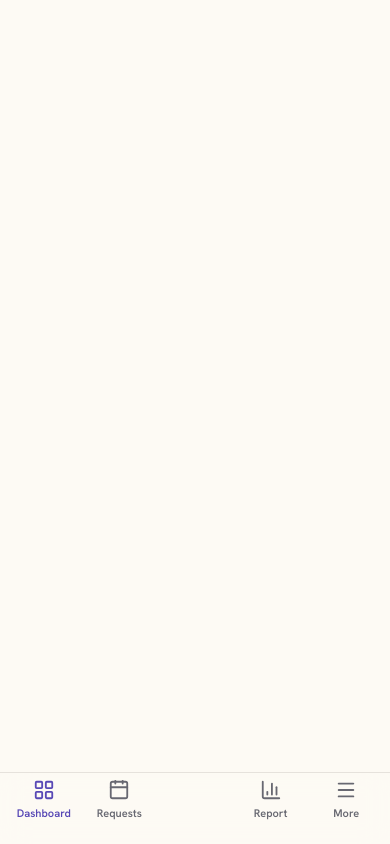
BottomBar › adds the Organization section and Support behind More for an admin
Click the button "More".
click(346, 808)  # box [308,773,384,843]
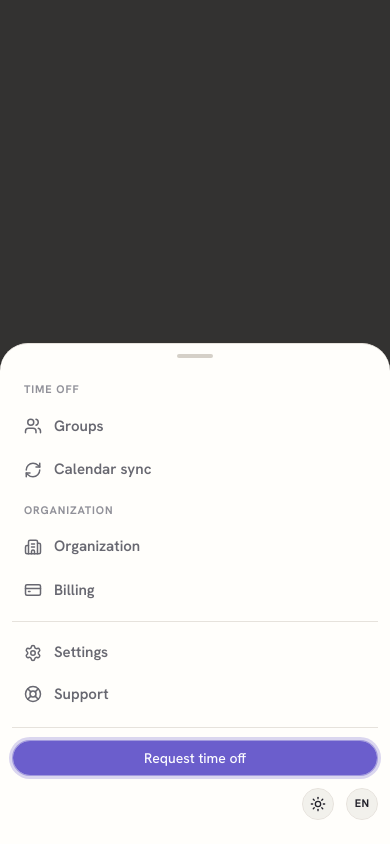
Check: the text "Organization" is shown, box [24,503,113,517]
Check: the links read "Groups", "Calendar sync", "Organization", "Billing", "Settings", "Support", in this order, box [24,416,104,436]; [24,459,152,479]; [24,536,140,556]; [24,580,95,600]; [24,642,108,662]; [24,684,109,704]
